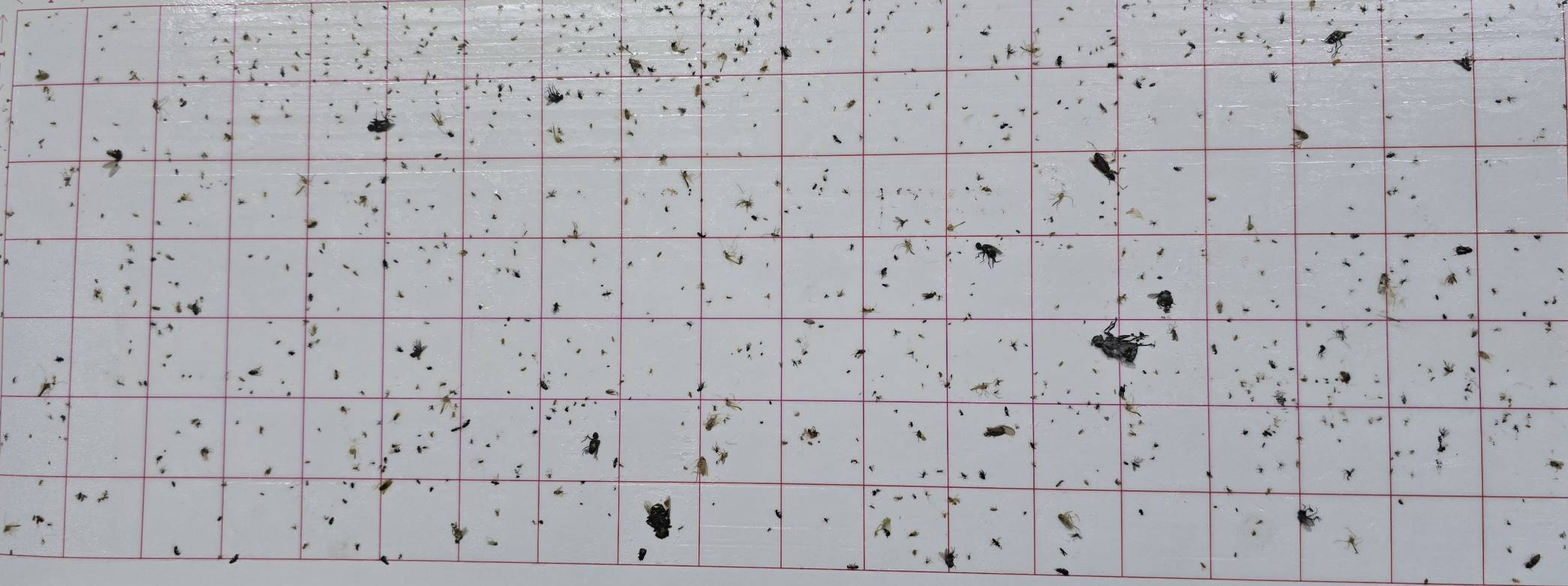fly: (1089, 317, 1158, 362), (639, 493, 675, 541), (977, 240, 1009, 268), (1298, 498, 1320, 532), (448, 523, 472, 546), (1157, 287, 1178, 313), (366, 116, 400, 132), (105, 150, 129, 172), (1455, 52, 1480, 73), (547, 85, 565, 105)
test: (1092, 144, 1127, 191), (1287, 118, 1317, 150), (983, 420, 1020, 440), (1341, 526, 1364, 558), (1455, 234, 1482, 257), (1375, 270, 1397, 298), (720, 392, 748, 414), (1330, 26, 1354, 51), (585, 431, 606, 459), (426, 107, 450, 131), (1048, 187, 1073, 210), (630, 547, 660, 566), (874, 517, 898, 540), (1058, 508, 1080, 532), (985, 532, 1007, 556), (294, 170, 319, 191), (720, 249, 745, 270), (731, 193, 758, 212), (171, 187, 195, 208), (120, 66, 148, 84), (39, 375, 64, 395), (690, 455, 713, 476), (188, 296, 206, 322), (1435, 427, 1452, 453), (1048, 560, 1073, 577), (803, 425, 823, 446), (1247, 519, 1266, 541), (546, 127, 568, 146), (942, 551, 966, 568), (1345, 455, 1356, 491), (1242, 212, 1260, 234), (221, 553, 244, 570), (679, 167, 698, 187), (1165, 326, 1185, 345), (353, 189, 373, 208), (842, 92, 859, 114), (698, 414, 720, 431), (611, 148, 628, 170), (1547, 453, 1566, 472), (970, 377, 990, 395), (829, 129, 850, 146), (857, 303, 880, 318), (1317, 337, 1332, 360), (1334, 322, 1352, 341), (921, 287, 940, 305), (1112, 289, 1131, 307), (148, 96, 165, 116), (670, 37, 686, 58), (1343, 155, 1365, 170), (900, 236, 917, 255), (1266, 69, 1285, 86), (940, 371, 957, 390), (96, 204, 113, 223), (1523, 551, 1544, 566), (30, 67, 51, 82), (1095, 101, 1116, 116), (1264, 356, 1285, 371), (1373, 2, 1397, 15), (150, 448, 167, 466), (128, 208, 144, 227), (1199, 187, 1219, 202), (947, 493, 962, 513), (60, 169, 75, 189), (216, 478, 236, 493), (1302, 0, 1322, 15), (1007, 335, 1020, 358), (377, 481, 398, 495), (1212, 300, 1229, 317), (840, 240, 857, 257), (473, 296, 490, 313), (1054, 52, 1069, 71), (1050, 476, 1069, 491), (1382, 184, 1401, 199), (39, 84, 58, 99), (409, 340, 424, 359), (69, 489, 90, 502), (842, 560, 863, 573), (947, 215, 960, 236), (1168, 159, 1184, 176), (1395, 495, 1410, 513), (1238, 303, 1257, 317), (9, 371, 21, 393), (246, 365, 266, 378), (0, 523, 17, 538), (491, 502, 506, 519), (163, 249, 178, 266), (1024, 41, 1041, 56), (767, 227, 782, 244), (111, 375, 126, 392), (874, 185, 891, 200), (1123, 403, 1140, 418), (870, 388, 887, 403), (1272, 390, 1289, 405), (1354, 2, 1377, 13), (551, 300, 565, 318), (304, 217, 323, 230), (358, 45, 377, 58), (996, 118, 1018, 129), (855, 343, 867, 363), (505, 264, 521, 279), (248, 111, 263, 127), (715, 49, 731, 64), (867, 485, 883, 500), (1003, 43, 1017, 60), (1444, 362, 1457, 380), (1126, 206, 1145, 218), (439, 393, 451, 412), (486, 536, 501, 551), (1476, 347, 1491, 362), (330, 365, 345, 380), (188, 414, 203, 429), (347, 442, 362, 457), (1232, 24, 1247, 39), (694, 378, 709, 393), (347, 99, 362, 114), (763, 523, 778, 538), (1131, 75, 1144, 92), (2, 206, 19, 219), (973, 468, 990, 481), (390, 438, 403, 455), (979, 22, 992, 39), (169, 478, 182, 495), (197, 146, 210, 163), (775, 437, 792, 450), (1056, 354, 1069, 371), (173, 538, 182, 562), (218, 129, 236, 141), (1275, 11, 1289, 26), (958, 101, 972, 116), (622, 105, 636, 120), (1077, 423, 1088, 442), (1026, 435, 1039, 451), (653, 152, 671, 163), (1062, 4, 1080, 15), (285, 345, 296, 363), (537, 380, 551, 394), (628, 60, 642, 74), (199, 446, 212, 461), (692, 229, 707, 242), (1339, 371, 1352, 386), (272, 66, 287, 79), (304, 268, 319, 281), (1410, 28, 1425, 41), (1347, 227, 1362, 240), (1262, 427, 1277, 440), (1221, 483, 1236, 496), (1508, 573, 1523, 586), (424, 71, 439, 84), (1407, 154, 1422, 167), (336, 403, 349, 418), (390, 341, 405, 354), (837, 285, 850, 300), (1118, 2, 1131, 17), (733, 146, 746, 161), (908, 62, 923, 75), (1130, 455, 1143, 470), (92, 283, 103, 300), (1058, 541, 1069, 558), (120, 279, 137, 290), (529, 427, 540, 444), (263, 187, 274, 204), (1463, 384, 1474, 401), (923, 97, 936, 111), (923, 22, 936, 36), (323, 513, 338, 525), (491, 472, 503, 487), (392, 287, 407, 299), (544, 187, 559, 199), (1199, 555, 1208, 575), (1485, 9, 1497, 24), (281, 259, 293, 274), (645, 363, 660, 375), (801, 315, 816, 327), (655, 244, 666, 260), (1210, 341, 1219, 360), (431, 146, 441, 163), (895, 212, 908, 225), (692, 81, 705, 94), (619, 193, 632, 206), (148, 320, 161, 333), (122, 240, 135, 253), (878, 264, 891, 277), (1512, 244, 1525, 257), (1469, 307, 1482, 320), (574, 345, 587, 358), (1000, 406, 1014, 418), (773, 508, 788, 519), (379, 553, 390, 568), (32, 236, 47, 247), (979, 184, 990, 199), (1116, 386, 1131, 397), (1448, 270, 1459, 285), (204, 34, 219, 45), (625, 255, 636, 270), (840, 4, 855, 15), (1137, 504, 1148, 519), (1268, 234, 1283, 245), (1339, 255, 1350, 270), (1204, 466, 1215, 481), (818, 513, 829, 528), (1199, 0, 1210, 15), (90, 73, 105, 84), (287, 26, 302, 37), (1002, 133, 1017, 144), (619, 44, 634, 55), (662, 199, 671, 217), (763, 289, 773, 305), (234, 62, 242, 82), (553, 483, 565, 496), (1532, 229, 1544, 242), (990, 54, 1002, 67), (1547, 375, 1559, 388), (793, 202, 805, 215), (521, 313, 533, 326), (1273, 458, 1285, 471), (778, 43, 788, 58), (351, 541, 366, 551), (53, 352, 68, 362), (214, 513, 229, 523), (456, 245, 471, 255), (840, 185, 852, 197), (568, 227, 581, 238), (2, 253, 15, 264), (176, 94, 189, 105), (379, 172, 390, 185), (758, 64, 771, 75), (197, 69, 208, 82), (1107, 58, 1118, 71), (1405, 229, 1418, 240), (124, 347, 135, 360), (424, 199, 435, 212), (88, 133, 101, 144), (696, 96, 709, 107), (773, 176, 784, 189), (1433, 289, 1446, 300), (722, 289, 735, 300), (891, 133, 904, 144), (109, 116, 122, 127), (767, 0, 780, 11), (1114, 478, 1127, 489), (249, 58, 260, 71), (173, 301, 183, 315), (96, 491, 111, 500), (467, 185, 476, 200), (398, 157, 407, 172), (1388, 148, 1397, 163), (146, 302, 161, 311), (910, 528, 919, 543), (1401, 393, 1410, 408), (1557, 262, 1566, 277), (426, 485, 435, 500), (347, 478, 356, 493), (1230, 547, 1245, 556), (24, 17, 36, 28), (1155, 274, 1167, 285), (1081, 477, 1093, 488), (1045, 213, 1057, 224), (461, 417, 473, 428), (698, 279, 711, 289), (683, 318, 696, 328), (161, 348, 174, 358), (872, 24, 882, 37), (1232, 333, 1245, 343), (1148, 218, 1161, 228), (1553, 34, 1563, 47), (1544, 317, 1555, 328), (240, 30, 251, 41), (263, 253, 274, 264), (1504, 92, 1515, 103), (49, 118, 60, 129), (1187, 39, 1195, 54), (1155, 245, 1165, 257), (1262, 485, 1274, 495), (208, 7, 218, 19), (1245, 386, 1255, 398), (1125, 429, 1137, 439), (1030, 160, 1042, 170), (1120, 458, 1130, 470), (1330, 57, 1342, 67), (1178, 28, 1190, 38), (734, 40, 744, 52), (392, 410, 402, 422), (602, 288, 614, 298), (246, 73, 256, 85), (915, 429, 928, 438), (255, 422, 264, 435), (36, 135, 45, 148), (1257, 463, 1266, 476), (904, 347, 917, 356), (1467, 328, 1480, 337), (289, 47, 302, 56), (822, 34, 835, 43), (801, 92, 814, 101), (501, 335, 510, 348), (302, 474, 311, 487), (1558, 528, 1567, 541), (445, 129, 458, 138), (611, 455, 619, 469), (236, 193, 246, 204), (508, 32, 518, 43), (199, 112, 210, 122), (1498, 392, 1508, 403), (1152, 368, 1163, 378), (1089, 366, 1100, 376), (849, 457, 860, 467), (975, 171, 985, 182), (994, 375, 1004, 386), (734, 25, 744, 36), (700, 59, 710, 70), (719, 450, 729, 461), (491, 191, 503, 200), (598, 347, 610, 356), (354, 21, 366, 30), (893, 493, 905, 502), (309, 324, 318, 336), (921, 468, 928, 483), (169, 318, 176, 333), (377, 4, 392, 11), (107, 22, 120, 30), (324, 28, 332, 41), (98, 43, 111, 51), (1242, 427, 1250, 440), (605, 388, 618, 396), (381, 258, 389, 271), (1525, 413, 1535, 423), (1048, 230, 1058, 240), (804, 0, 814, 10), (713, 73, 723, 83), (626, 128, 636, 138), (678, 0, 688, 10), (496, 82, 506, 92), (58, 413, 68, 423), (263, 465, 274, 474), (36, 476, 47, 485), (681, 105, 690, 116), (962, 311, 973, 320), (1371, 81, 1380, 92), (1489, 285, 1500, 294), (1054, 96, 1065, 105), (1401, 255, 1410, 266), (1502, 412, 1511, 423), (1413, 360, 1424, 369), (1322, 376, 1333, 385), (1236, 378, 1247, 387), (957, 407, 966, 418), (731, 56, 742, 65), (588, 240, 597, 251), (543, 414, 554, 423), (889, 7, 897, 19), (1550, 294, 1558, 306), (1120, 247, 1128, 259), (1070, 533, 1082, 541), (685, 58, 693, 70), (653, 5, 665, 13), (676, 523, 684, 535), (750, 17, 763, 24), (1470, 362, 1477, 375), (36, 515, 45, 525), (244, 249, 253, 259), (563, 9, 572, 19), (990, 502, 996, 517), (1512, 424, 1521, 434), (1375, 413, 1385, 422), (1504, 519, 1513, 529), (1505, 546, 1515, 555), (1420, 575, 1429, 585), (1226, 390, 1235, 400), (1363, 304, 1373, 313), (1329, 421, 1338, 431), (1303, 320, 1312, 330), (1111, 219, 1121, 228), (1181, 3, 1190, 13), (1058, 14, 1067, 24), (881, 279, 890, 289), (750, 213, 759, 223), (773, 106, 783, 115), (704, 78, 713, 88), (438, 379, 448, 388), (379, 463, 389, 472), (341, 263, 351, 272), (182, 39, 193, 47), (1027, 394, 1038, 402), (1064, 243, 1075, 251), (1383, 36, 1394, 44), (1294, 458, 1302, 469), (812, 183, 820, 194), (673, 21, 681, 32), (530, 73, 538, 84), (383, 389, 391, 400), (131, 299, 139, 310), (1096, 214, 1108, 221), (1136, 419, 1148, 426), (577, 90, 584, 102), (1386, 111, 1395, 120), (1510, 2, 1519, 11), (306, 4, 315, 13), (1541, 299, 1550, 308), (1253, 236, 1262, 245), (1140, 368, 1149, 377), (1137, 273, 1146, 282), (1054, 398, 1063, 407), (991, 111, 1000, 120), (917, 331, 926, 340), (892, 253, 901, 262), (867, 464, 876, 473), (857, 133, 866, 142), (647, 66, 656, 75), (587, 122, 596, 131), (340, 497, 349, 506), (382, 155, 391, 164), (127, 257, 136, 266), (1440, 309, 1450, 317), (1428, 376, 1438, 384), (1287, 364, 1297, 372), (1052, 303, 1062, 311), (1030, 370, 1040, 378), (1104, 415, 1114, 423), (1031, 462, 1041, 470), (1494, 96, 1502, 106), (1148, 81, 1158, 89), (792, 337, 802, 345), (800, 349, 810, 357), (820, 175, 830, 183), (821, 292, 831, 300), (871, 47, 879, 57), (700, 39, 708, 49), (751, 30, 759, 40), (687, 391, 695, 401), (521, 228, 529, 238), (519, 366, 529, 374), (428, 402, 436, 412), (416, 444, 424, 454), (301, 542, 309, 552), (363, 180, 373, 188), (458, 42, 468, 50), (261, 80, 271, 88), (1302, 153, 1315, 159), (893, 322, 900, 333), (1330, 227, 1337, 238), (1463, 10, 1470, 21), (958, 472, 969, 479), (756, 74, 767, 81), (660, 104, 671, 111), (495, 4, 506, 11), (425, 365, 436, 372), (451, 425, 462, 432), (306, 292, 315, 300), (1303, 265, 1312, 273), (1494, 326, 1502, 335), (1394, 447, 1402, 456), (1399, 277, 1407, 286), (1300, 376, 1309, 384), (1234, 365, 1242, 374), (1296, 434, 1305, 442), (1319, 416, 1328, 424), (1260, 440, 1268, 449), (1093, 466, 1102, 474), (1023, 340, 1031, 349), (1049, 417, 1057, 426), (1554, 0, 1562, 9), (1514, 32, 1523, 40), (1013, 73, 1022, 81), (1034, 27, 1043, 35), (1034, 136, 1042, 145), (996, 336, 1004, 345), (923, 558, 932, 566), (743, 342, 752, 350), (934, 90, 942, 99), (711, 404, 719, 413), (961, 3, 970, 11), (866, 9, 874, 18), (738, 75, 747, 83), (560, 237, 569, 245), (579, 11, 587, 20), (450, 167, 459, 175), (489, 213, 498, 221), (617, 378, 626, 386), (360, 430, 368, 439), (284, 390, 293, 398), (237, 374, 246, 382), (320, 241, 328, 250), (371, 205, 379, 214), (451, 33, 459, 42), (149, 255, 158, 263), (69, 200, 77, 209), (159, 467, 167, 476), (1410, 192, 1417, 202), (1506, 227, 1516, 234), (1354, 276, 1364, 283), (1525, 424, 1535, 431), (1365, 417, 1375, 424), (1341, 417, 1351, 424), (1326, 401, 1336, 408), (1254, 375, 1264, 382), (1095, 401, 1102, 411), (958, 248, 965, 258), (943, 22, 950, 32), (832, 105, 839, 115), (750, 122, 760, 129), (765, 11, 775, 18), (442, 240, 449, 250), (712, 444, 719, 454), (539, 517, 546, 527), (176, 74, 186, 81), (144, 377, 150, 388), (1259, 266, 1265, 277), (809, 232, 815, 243), (995, 388, 1001, 399), (448, 388, 459, 394), (1197, 109, 1202, 122), (572, 24, 580, 32), (1520, 310, 1528, 318), (1403, 417, 1411, 425), (1269, 296, 1277, 304), (1174, 368, 1182, 376), (1373, 377, 1381, 385), (1377, 394, 1385, 402), (1149, 455, 1157, 463), (1065, 387, 1073, 395), (1038, 391, 1046, 399), (1075, 409, 1083, 417), (1082, 318, 1090, 326), (1386, 17, 1394, 25), (1253, 32, 1261, 40), (1087, 50, 1095, 58), (869, 503, 877, 511), (923, 217, 931, 225), (767, 398, 775, 406), (757, 419, 765, 427), (797, 357, 805, 365), (895, 186, 903, 194), (872, 76, 880, 84), (609, 334, 617, 342), (550, 406, 558, 414), (530, 352, 538, 360), (414, 478, 422, 486), (352, 465, 360, 473), (307, 340, 315, 348), (349, 32, 357, 40), (2, 433, 10, 441), (1427, 366, 1434, 375), (1273, 303, 1282, 310), (1367, 321, 1374, 330), (1331, 387, 1340, 394), (1152, 441, 1161, 448), (1042, 378, 1049, 387), (1033, 237, 1042, 244), (1299, 39, 1308, 46), (1327, 18, 1336, 25), (1110, 40, 1119, 47), (1133, 236, 1140, 245), (910, 549, 919, 556), (791, 360, 798, 369), (735, 347, 742, 356), (704, 298, 713, 305), (699, 197, 706, 206), (937, 0, 946, 7), (813, 48, 822, 55), (743, 92, 752, 99), (473, 78, 480, 87), (495, 433, 502, 442), (564, 336, 571, 345), (393, 257, 400, 266), (224, 36, 231, 45), (163, 148, 172, 155), (1020, 510, 1030, 516), (822, 166, 832, 172), (663, 4, 673, 10), (462, 104, 472, 110), (433, 244, 439, 254), (265, 319, 275, 325), (373, 135, 383, 141), (1410, 447, 1417, 455), (1520, 496, 1527, 504), (1312, 249, 1320, 256), (1493, 421, 1501, 428), (1390, 454, 1397, 462), (1276, 381, 1284, 388), (1098, 198, 1106, 205), (1127, 421, 1135, 428), (1066, 402, 1073, 410), (1015, 228, 1022, 236), (1387, 45, 1394, 53), (1265, 44, 1273, 51), (1151, 11, 1159, 18), (1076, 44, 1083, 52), (1076, 78, 1084, 85), (911, 492, 918, 500), (777, 361, 785, 368), (818, 186, 825, 194), (958, 139, 965, 147), (958, 52, 965, 60), (813, 16, 821, 23), (635, 86, 643, 93), (680, 421, 687, 429), (604, 51, 611, 59), (580, 40, 588, 47), (518, 20, 526, 27), (525, 95, 532, 103), (488, 122, 495, 130), (564, 405, 572, 412), (552, 398, 559, 406), (413, 384, 421, 391), (423, 443, 430, 451), (383, 456, 391, 463), (274, 338, 281, 346), (396, 138, 404, 145), (324, 180, 331, 188), (364, 221, 371, 229), (415, 49, 423, 56), (387, 88, 394, 96), (311, 77, 318, 85), (279, 103, 286, 111), (384, 229, 392, 236), (154, 219, 162, 226), (39, 537, 47, 544), (555, 76, 566, 81), (299, 319, 310, 324), (432, 24, 441, 30), (1093, 389, 1102, 395), (1562, 102, 1568, 111), (1213, 25, 1219, 34), (1265, 52, 1274, 58), (936, 468, 945, 474), (895, 3, 904, 9), (711, 6, 717, 15), (670, 9, 676, 18), (505, 61, 514, 67), (508, 85, 514, 94), (545, 473, 554, 479), (477, 459, 486, 465), (341, 479, 347, 488), (223, 120, 232, 126), (119, 262, 125, 271), (137, 378, 143, 387), (1077, 96, 1082, 106), (511, 248, 516, 258), (715, 459, 720, 469), (235, 386, 245, 391), (1485, 158, 1492, 165), (1358, 250, 1365, 257), (1261, 344, 1268, 351), (1226, 317, 1233, 324), (1354, 21, 1361, 28), (1033, 109, 1040, 116), (921, 318, 928, 325), (764, 261, 771, 268), (762, 216, 769, 223), (806, 80, 813, 87), (725, 415, 732, 422), (698, 2, 705, 9), (557, 46, 564, 53), (491, 109, 498, 116), (497, 93, 504, 100), (468, 139, 475, 146), (576, 188, 583, 195), (413, 207, 420, 214), (579, 501, 586, 508), (606, 512, 613, 519), (292, 525, 299, 532), (359, 389, 366, 396), (260, 491, 267, 498), (352, 270, 359, 277), (496, 266, 503, 273), (405, 198, 412, 205), (420, 43, 427, 50), (260, 97, 267, 104), (160, 361, 167, 368), (94, 276, 101, 283), (175, 429, 182, 436), (587, 24, 595, 30), (1347, 204, 1353, 212), (1272, 339, 1280, 345), (1231, 505, 1239, 511), (1335, 437, 1343, 443), (1116, 191, 1122, 199), (1448, 40, 1456, 46), (1117, 74, 1125, 80), (1019, 107, 1027, 113), (986, 141, 992, 149), (969, 280, 977, 286), (844, 368, 852, 374), (757, 340, 765, 346), (833, 11, 839, 19), (689, 71, 697, 77), (747, 39, 753, 47), (633, 119, 639, 127), (671, 225, 679, 231), (741, 226, 749, 232), (700, 9, 706, 17), (434, 88, 440, 96), (481, 250, 487, 258), (418, 245, 424, 253), (579, 479, 587, 485), (531, 518, 537, 526), (484, 442, 492, 448), (516, 463, 524, 469), (517, 351, 523, 359), (429, 431, 435, 439), (376, 420, 384, 426), (398, 553, 404, 561), (419, 166, 425, 174), (335, 113, 343, 119), (401, 12, 407, 20), (395, 75, 401, 83), (354, 14, 362, 20), (174, 167, 180, 175), (222, 181, 230, 187), (176, 30, 184, 36), (1105, 28, 1114, 33), (468, 439, 477, 444), (303, 460, 312, 465), (282, 113, 291, 118), (200, 170, 205, 179), (48, 413, 53, 422), (1321, 303, 1327, 310), (1389, 468, 1395, 475), (1314, 377, 1320, 384), (1085, 401, 1091, 408), (1402, 13, 1409, 19), (1448, 26, 1455, 32), (1099, 45, 1106, 51), (908, 420, 914, 427), (947, 321, 954, 327), (925, 244, 931, 251), (794, 411, 800, 418), (745, 353, 751, 360), (964, 185, 971, 191), (962, 71, 969, 77), (655, 78, 662, 84), (645, 310, 652, 316), (620, 301, 626, 308), (695, 405, 702, 411), (526, 112, 532, 119), (464, 85, 470, 92), (468, 234, 474, 241), (446, 276, 453, 282), (425, 258, 431, 265), (442, 231, 448, 238), (572, 400, 578, 407), (453, 403, 459, 410), (279, 379, 286, 385), (506, 315, 513, 321), (405, 25, 412, 31), (395, 89, 402, 95), (386, 106, 392, 113), (368, 68, 374, 75), (353, 56, 359, 63), (267, 31, 273, 38), (256, 37, 262, 44), (228, 49, 235, 55), (141, 146, 147, 153), (179, 373, 186, 379), (174, 281, 180, 288), (127, 339, 134, 345), (8, 549, 14, 556), (53, 10, 59, 17), (1111, 206, 1119, 211), (1226, 108, 1236, 112), (1109, 35, 1117, 40), (890, 408, 898, 413), (943, 511, 948, 519), (669, 77, 677, 82), (746, 14, 751, 22), (423, 320, 431, 325), (613, 409, 618, 417), (545, 371, 553, 376), (385, 59, 393, 64), (323, 62, 333, 66), (166, 157, 174, 162), (64, 436, 69, 444), (925, 363, 931, 369), (854, 436, 860, 442), (880, 373, 886, 379), (947, 250, 953, 256), (877, 98, 883, 104), (720, 420, 729, 424), (817, 324, 823, 330), (679, 285, 685, 291), (718, 1, 727, 5), (618, 37, 624, 43), (550, 12, 556, 18), (606, 69, 612, 75), (532, 142, 538, 148), (487, 78, 493, 84), (444, 156, 450, 162), (612, 486, 618, 492), (606, 363, 612, 369), (568, 418, 574, 424), (619, 463, 625, 469), (371, 460, 377, 466), (234, 420, 240, 426), (359, 231, 365, 237), (325, 134, 331, 140), (337, 120, 346, 124), (366, 85, 372, 91), (357, 65, 363, 71), (323, 16, 329, 22), (342, 78, 348, 84), (284, 96, 290, 102), (113, 455, 119, 461), (46, 460, 52, 466), (10, 119, 16, 125), (1505, 367, 1512, 372), (1213, 504, 1220, 509), (1120, 51, 1125, 58), (919, 382, 926, 387), (783, 209, 790, 214), (745, 48, 750, 55), (566, 89, 571, 96), (515, 475, 522, 480), (506, 388, 511, 395), (450, 411, 457, 416), (336, 306, 341, 313), (398, 57, 405, 62), (329, 102, 336, 107), (215, 60, 222, 65), (162, 119, 169, 124), (188, 219, 193, 226), (156, 249, 161, 256), (0, 312, 5, 319), (316, 338, 320, 346), (1562, 544, 1568, 549), (1561, 0, 1567, 5), (1222, 27, 1227, 33), (759, 353, 765, 358), (908, 107, 913, 113), (903, 103, 909, 108), (873, 38, 878, 44), (881, 24, 887, 29), (709, 15, 714, 21), (715, 21, 721, 26), (598, 21, 604, 26), (561, 23, 567, 28), (595, 72, 601, 77), (528, 58, 533, 64), (482, 160, 488, 165), (628, 396, 633, 402), (581, 403, 587, 408), (529, 405, 534, 411), (445, 478, 450, 484), (416, 432, 422, 437), (289, 484, 295, 489), (306, 306, 312, 311), (319, 249, 324, 255), (429, 7, 434, 13), (429, 31, 434, 37), (465, 38, 471, 43), (323, 71, 329, 76), (188, 373, 194, 378), (167, 279, 172, 285), (66, 402, 72, 407), (31, 514, 36, 520), (130, 19, 135, 25), (26, 153, 32, 158), (1261, 39, 1268, 43), (711, 500, 715, 507), (913, 2, 920, 6), (688, 189, 692, 196), (590, 258, 597, 262), (596, 92, 603, 96), (512, 240, 519, 244), (316, 427, 323, 431), (269, 213, 276, 217), (324, 55, 331, 59), (578, 48, 583, 53), (435, 100, 440, 105), (410, 99, 415, 104), (594, 401, 599, 406), (249, 390, 254, 395), (503, 323, 508, 328), (324, 41, 329, 46), (287, 14, 292, 19), (28, 433, 33, 438), (46, 401, 51, 406), (48, 522, 53, 527), (947, 258, 953, 262), (955, 13, 959, 19), (719, 17, 725, 21), (611, 32, 617, 36), (537, 7, 541, 13), (534, 23, 540, 27), (589, 70, 593, 76), (423, 284, 429, 288), (403, 30, 407, 36), (464, 52, 470, 56), (458, 50, 462, 56), (183, 82, 187, 88), (200, 183, 204, 189), (29, 51, 33, 57), (1095, 46, 1098, 53), (474, 73, 481, 76), (486, 227, 489, 234), (1065, 105, 1069, 110), (969, 292, 974, 296), (650, 319, 655, 323), (612, 51, 617, 55), (482, 90, 487, 94), (585, 396, 590, 400), (600, 282, 604, 287), (385, 241, 390, 245), (419, 38, 424, 42), (425, 41, 429, 46), (207, 186, 212, 190), (209, 182, 213, 187), (8, 98, 12, 103), (383, 66, 389, 69), (965, 239, 969, 243), (559, 34, 563, 38), (564, 372, 568, 376), (47, 15, 51, 19), (214, 55, 219, 58), (58, 434, 61, 439)
